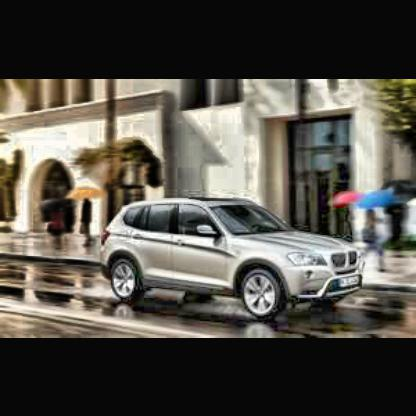BMW X3 SUV 2012: (99, 194, 369, 320)
